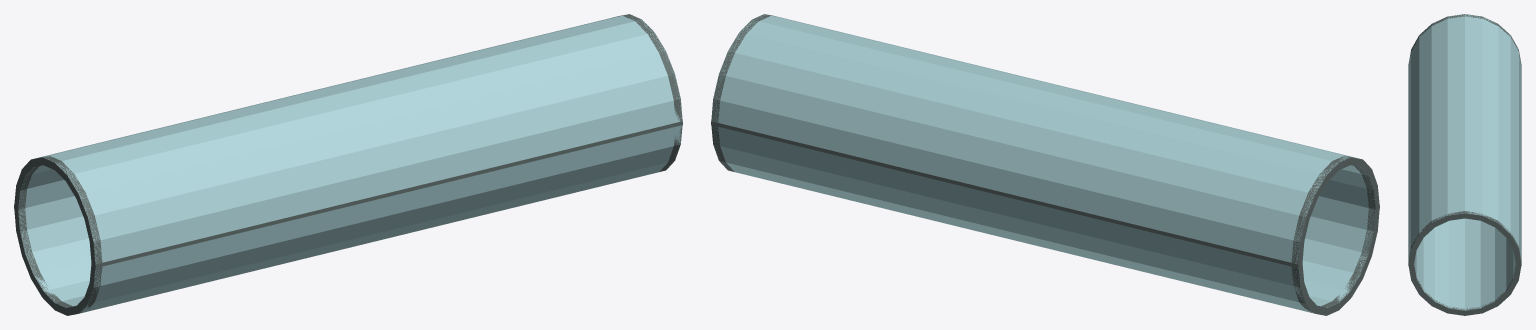
The model's file is PipeSectionSteel.glb.
The picture shows the model from 3 angles, left to right: view 1: azimuth 30°, elevation 25°; view 2: azimuth 150°, elevation 25°; view 3: azimuth 270°, elevation 25°; orthographic projection. The views are drawn at different scales.
Visible parts, largest first — view 1: PipeSectionSteel; view 2: PipeSectionSteel; view 3: PipeSectionSteel.
Boxes of the visible parts, x1,y1,x2,y2 form: PipeSectionSteel: (14, 14, 682, 315); PipeSectionSteel: (711, 14, 1379, 315); PipeSectionSteel: (1408, 14, 1521, 315).
Size of the model in its own units: 1 by 0.24 by 0.24.
